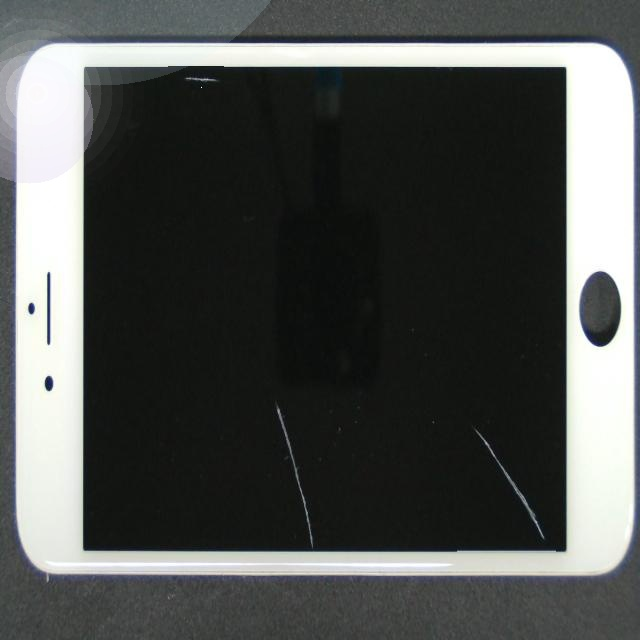scratch: (183, 178, 640, 640), (190, 306, 456, 640), (74, 47, 263, 141)
